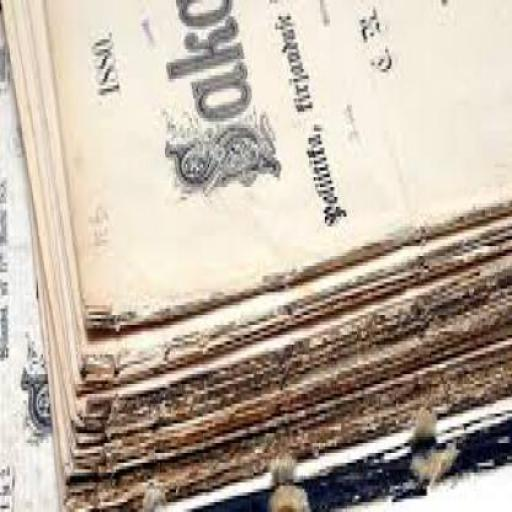paper: (0, 0, 511, 510), (41, 0, 510, 289)
